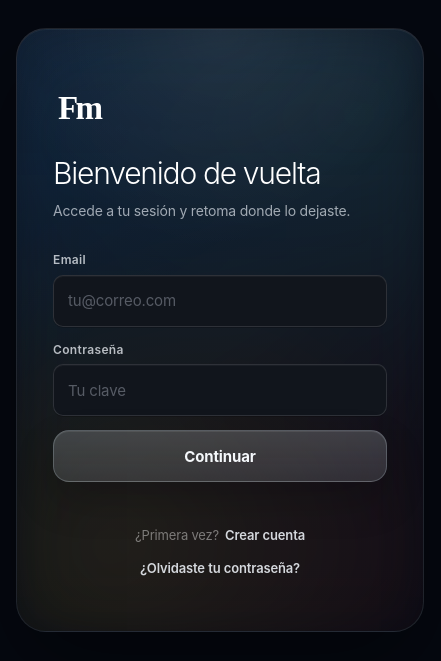
LoginPage › requires password
The width and height of the screenshot is (441, 661).
In the field with placeholder "tu@correo.com": (220, 301) [53,275,387,327], type "test@example.com"
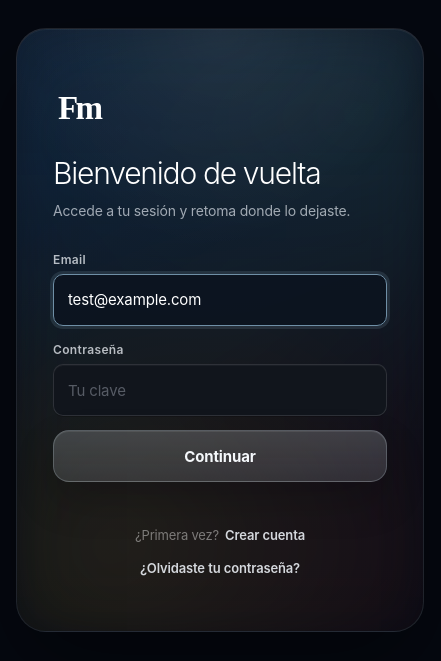
Click the button "Continuar": click(220, 456) [53,430,387,482]
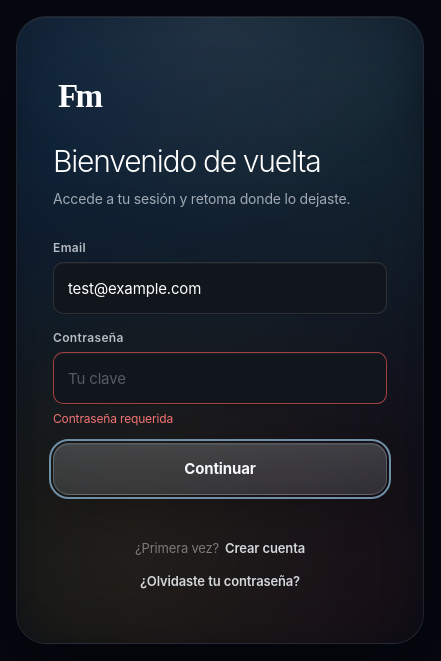
Expected: the text "Contraseña requerida" is shown, [53,411,173,426]
